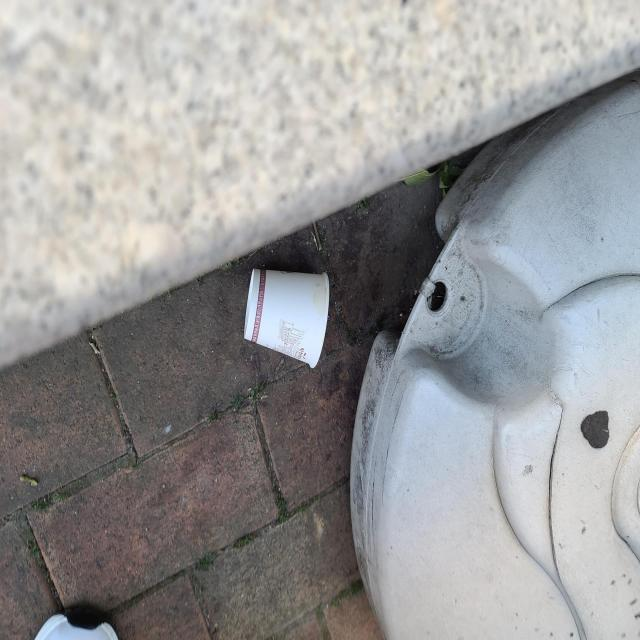glass: (244, 269, 329, 368)
